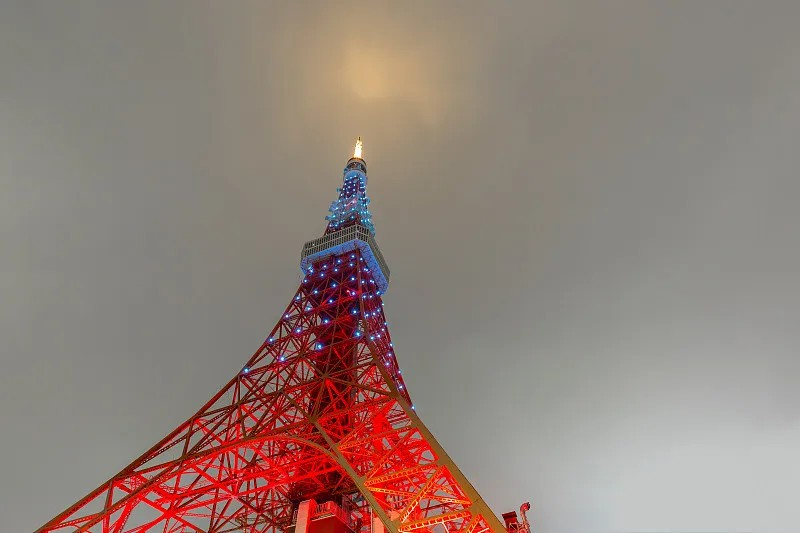Tokyo: (33, 133, 511, 532)
